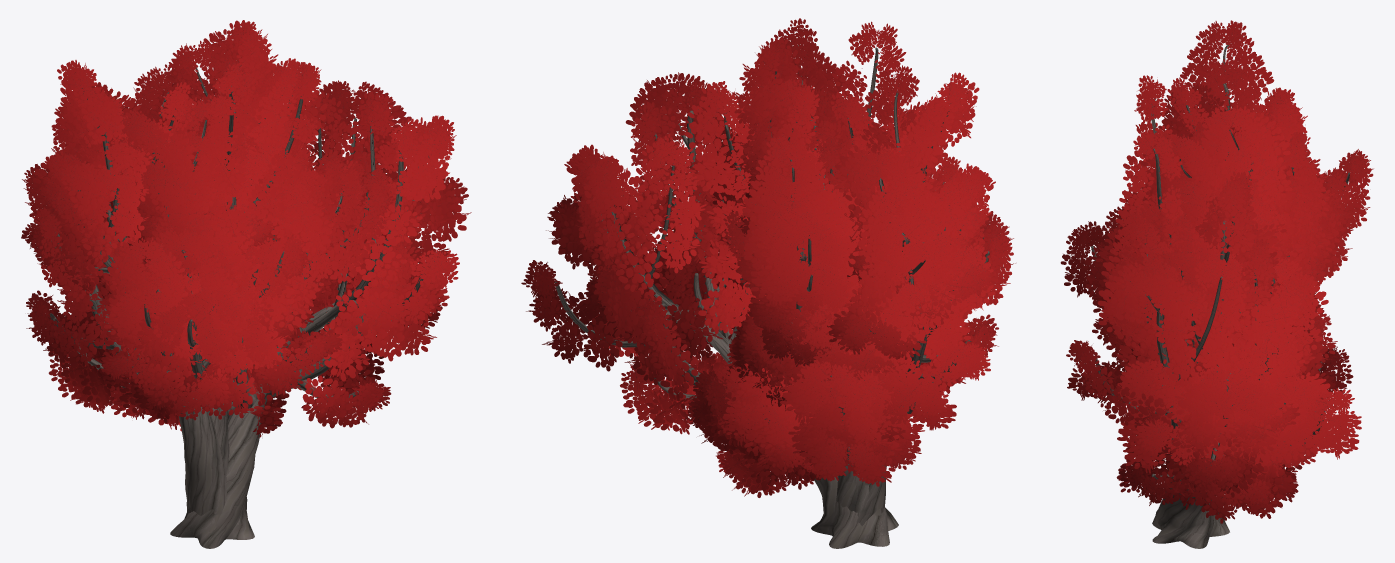
The model's file is twistedtree.glb.
The picture shows the model from 3 angles, left to right: view 1: azimuth 30°, elevation 25°; view 2: azimuth 150°, elevation 25°; view 3: azimuth 270°, elevation 25°; orthographic projection. The views are drawn at different scales.
Visible parts, largest first — view 1: TwistedTree_2, TwistedTree_1, TwistedTree_3, TwistedTree_4, TwistedTree_5; view 2: TwistedTree_1, TwistedTree_2, TwistedTree_4, TwistedTree_3, TwistedTree_5; view 3: TwistedTree_1, TwistedTree_4, TwistedTree_2, TwistedTree_3, TwistedTree_5.
Part boxes in pixels (box(x1,y1,x2,y2)): TwistedTree_2: box(21, 60, 321, 532); TwistedTree_1: box(145, 61, 471, 548); TwistedTree_3: box(48, 92, 396, 533); TwistedTree_4: box(65, 20, 368, 460); TwistedTree_5: box(92, 99, 347, 532); TwistedTree_1: box(521, 72, 898, 548); TwistedTree_2: box(723, 18, 1015, 521); TwistedTree_4: box(712, 37, 939, 489); TwistedTree_3: box(685, 99, 1013, 521); TwistedTree_5: box(711, 119, 926, 525); TwistedTree_1: box(1066, 171, 1361, 548); TwistedTree_4: box(1083, 84, 1373, 380); TwistedTree_2: box(1098, 20, 1320, 535); TwistedTree_3: box(1060, 163, 1353, 513); TwistedTree_5: box(1113, 166, 1352, 380).
Size of what is drawn, in the model's own units: 17.96 by 18.95 by 12.13.
Materials: 2 (2 with a texture image).
